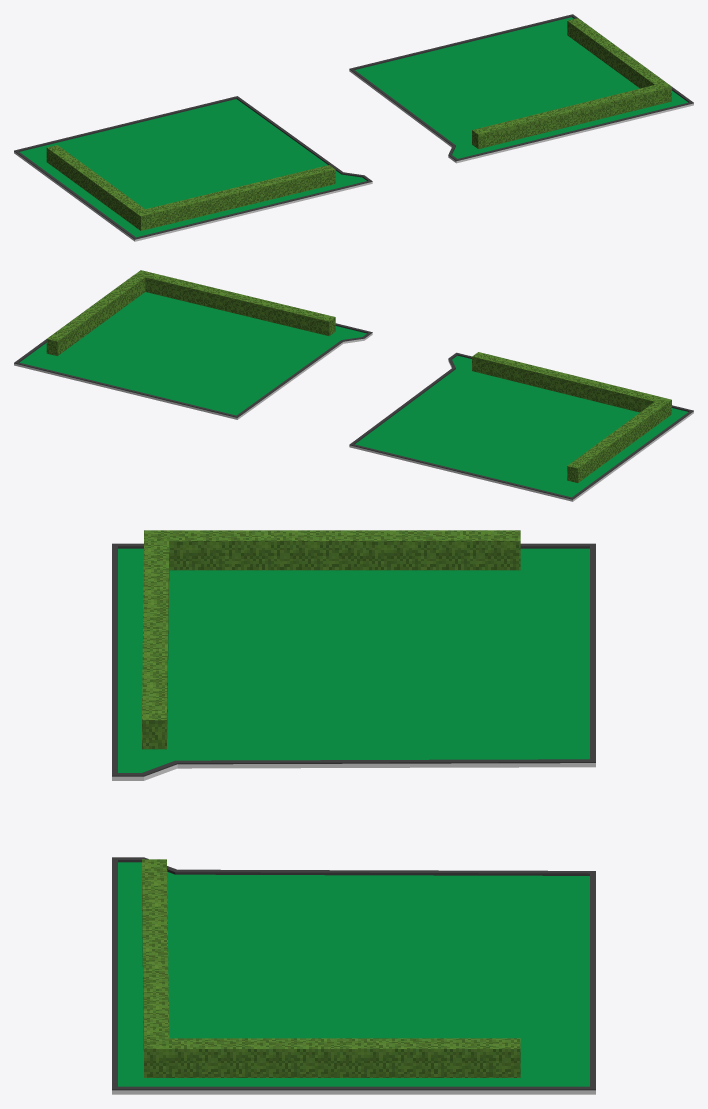
File: parkGrass-01.fbx
The picture shows the model from 3 angles, top to bottom: view 1: azimuth 30°, elevation 25°; view 2: azimuth 150°, elevation 25°; view 3: azimuth 270°, elevation 25°; orthographic projection. The views are drawn at different scales.
Parts seen in each view (by area): view 1: Flowerbed-01; view 2: Flowerbed-01; view 3: Flowerbed-01.
Boxes of the visible parts, x1,y1,x2,y2 form: Flowerbed-01: (14,14,693,241); Flowerbed-01: (14,270,693,501); Flowerbed-01: (112,530,595,1094).
Size of what is drawn, in the model's own units: 40 by 1.1 by 15.
